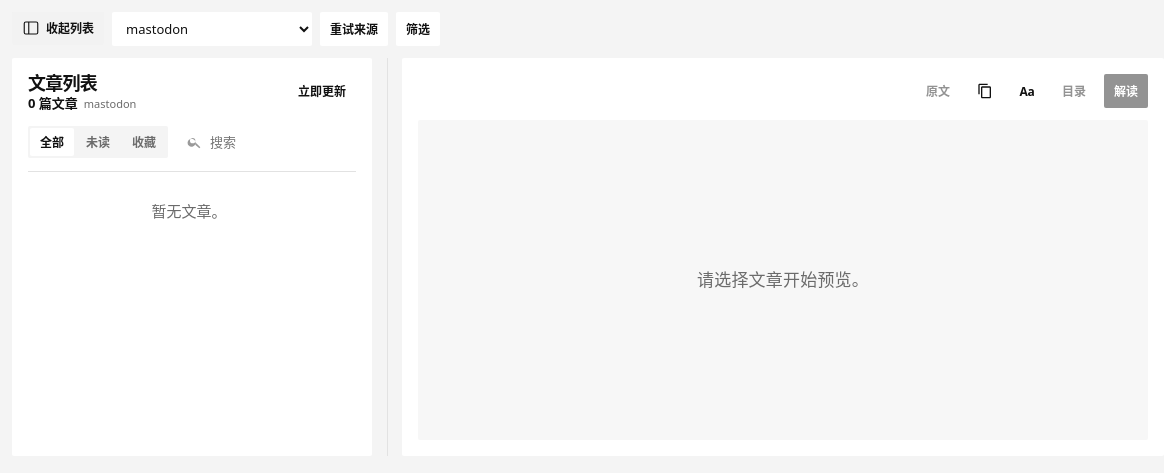
Test: ArticlesPage update entry › preserves an unknown selected source and offers retry when source loading fails
Check: the dropdown named "来源" shows "mastodon", box [112, 12, 312, 46]
What coordinates should you click on to do the following:
click the button "重试来源"
I would click on:
 (354, 29)
Its box is [320, 12, 388, 46].
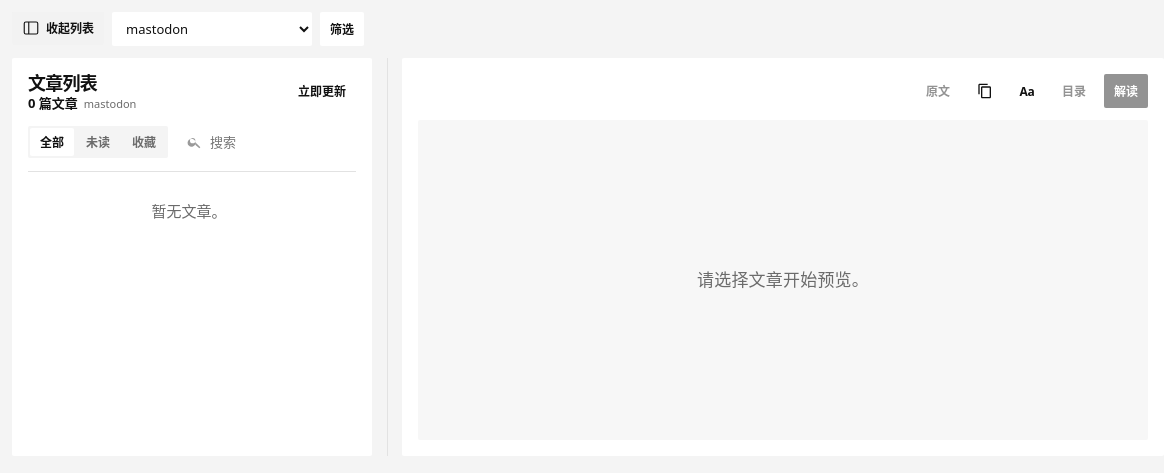
Check: the button "重试来源" is gone
